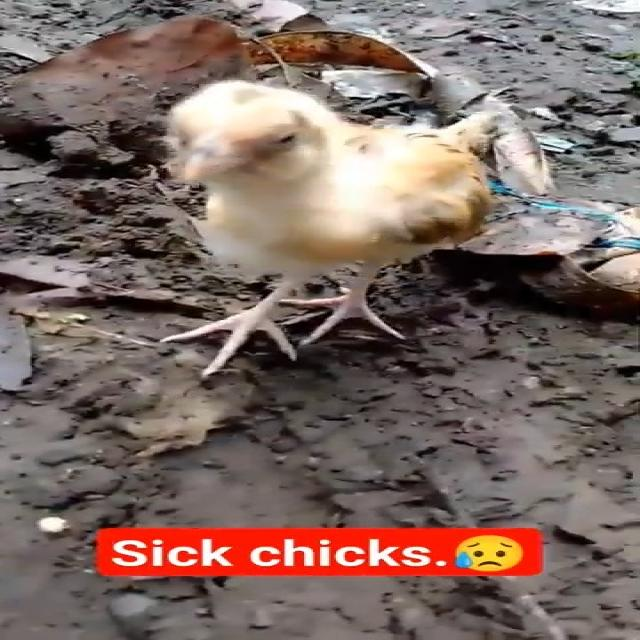abnormal chicken: (75, 58, 533, 366)
